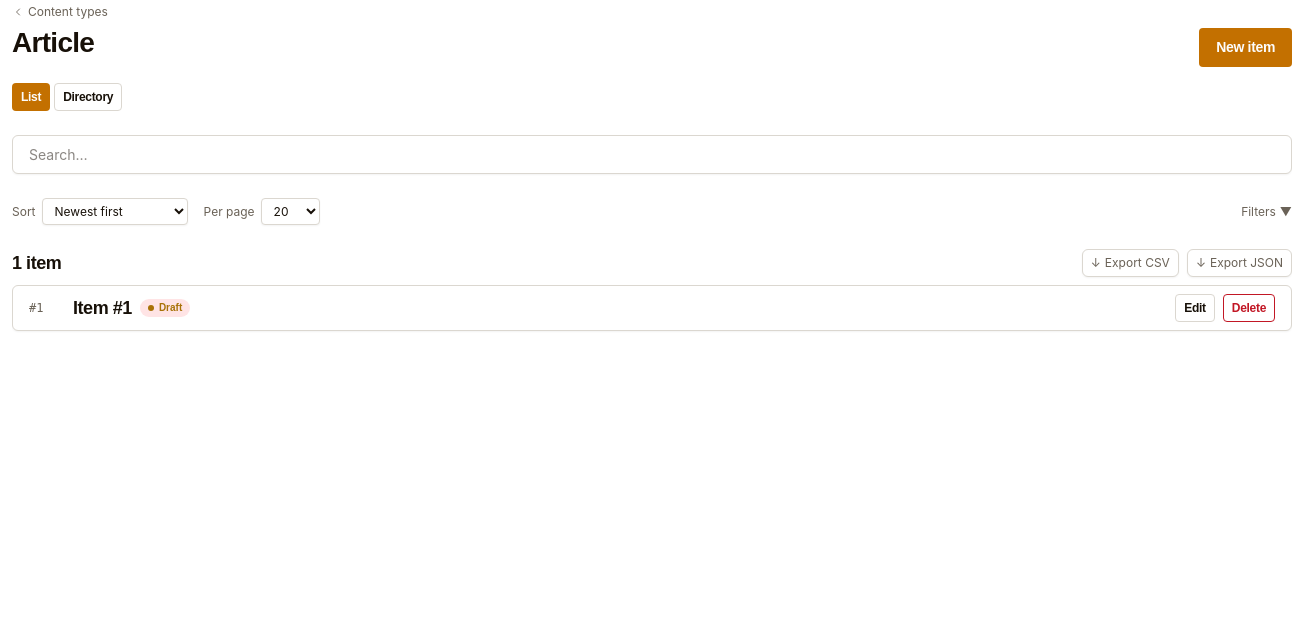
Test: EntityRecordsPage › shows empty state when no records match the relation filter
The width and height of the screenshot is (1304, 621).
Expected: the text "Item #1" is shown, [73,298,132,317]
# 絞り込みアコーディオンを開く
Click the button "Filters ▼".
click(1267, 212)  # box [1241,202,1292,220]
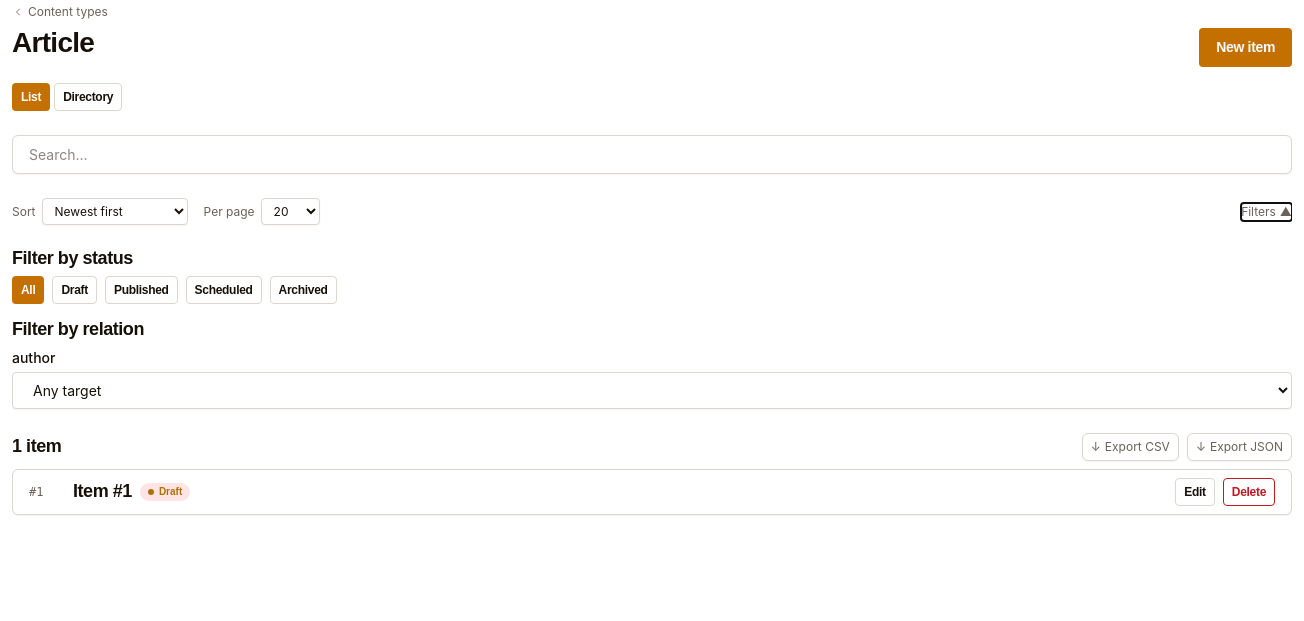
Select "Record #10" in the dropdown labelled "author" at (652, 390), box [12,372,1292,409]
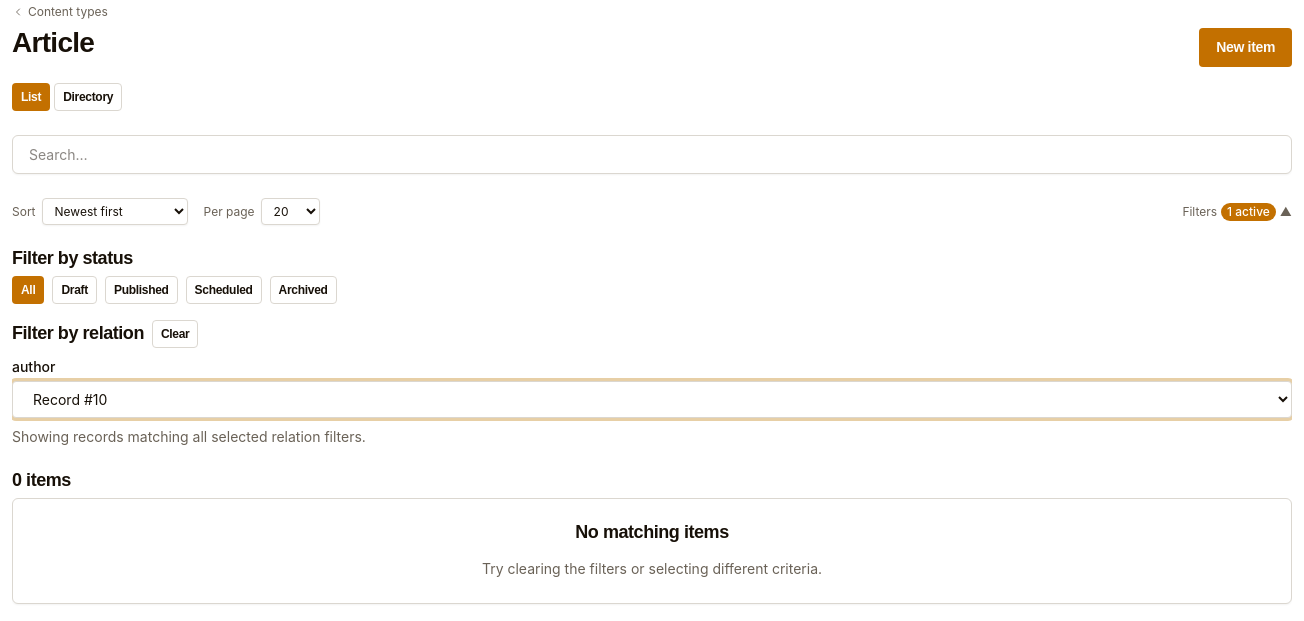
Expected: the heading "No matching items" is shown, [575,523,729,542]
